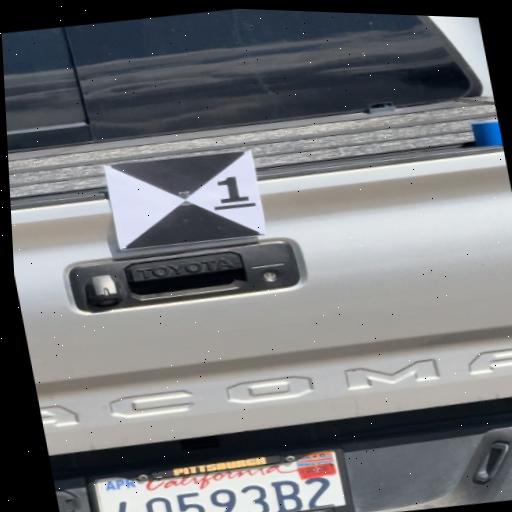target1: (103, 146, 265, 255)
